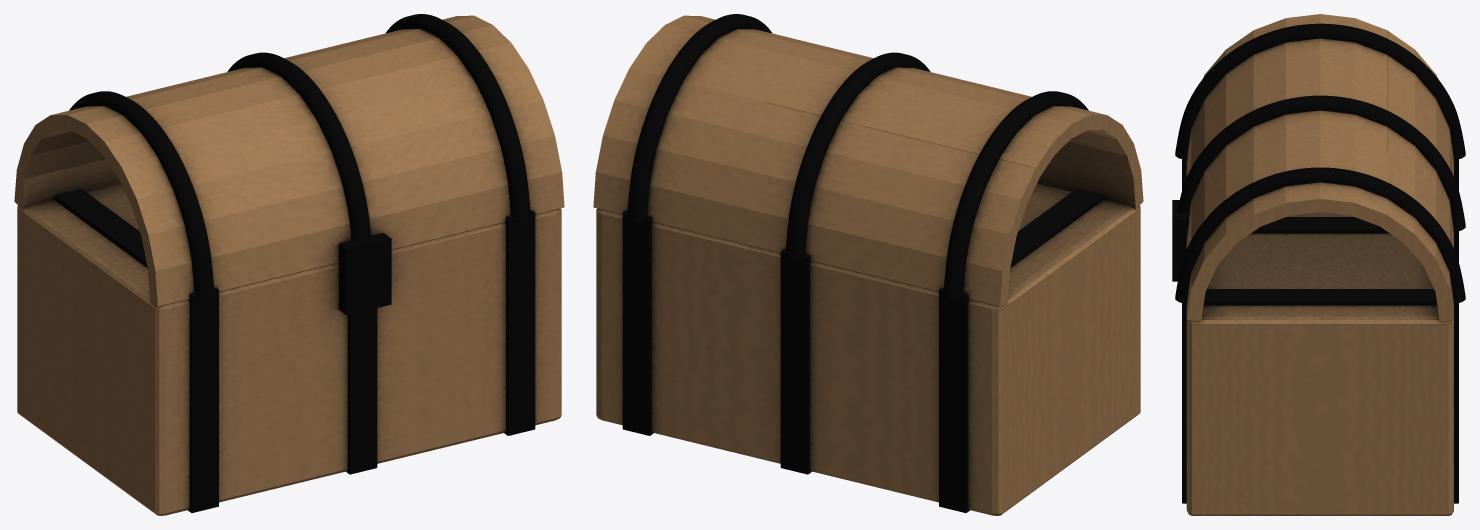
The model's file is movel_bau.glb.
3 views of the same model, side by side, from view 1: azimuth 30°, elevation 25°; view 2: azimuth 150°, elevation 25°; view 3: azimuth 270°, elevation 25° (orthographic). The views are drawn at different scales.
Visible parts, largest first — view 1: movel_bau; view 2: movel_bau; view 3: movel_bau.
Part boxes in pixels (box(x1,y1,x2,y2)): movel_bau: box(14, 14, 564, 515); movel_bau: box(593, 14, 1143, 515); movel_bau: box(1172, 14, 1465, 515).
Size of the model in its own units: 0.9 by 0.7466 by 0.6038.
Materials: 1 (1 with a texture image).
